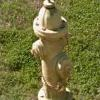Hydrant: (17, 2, 77, 96)
